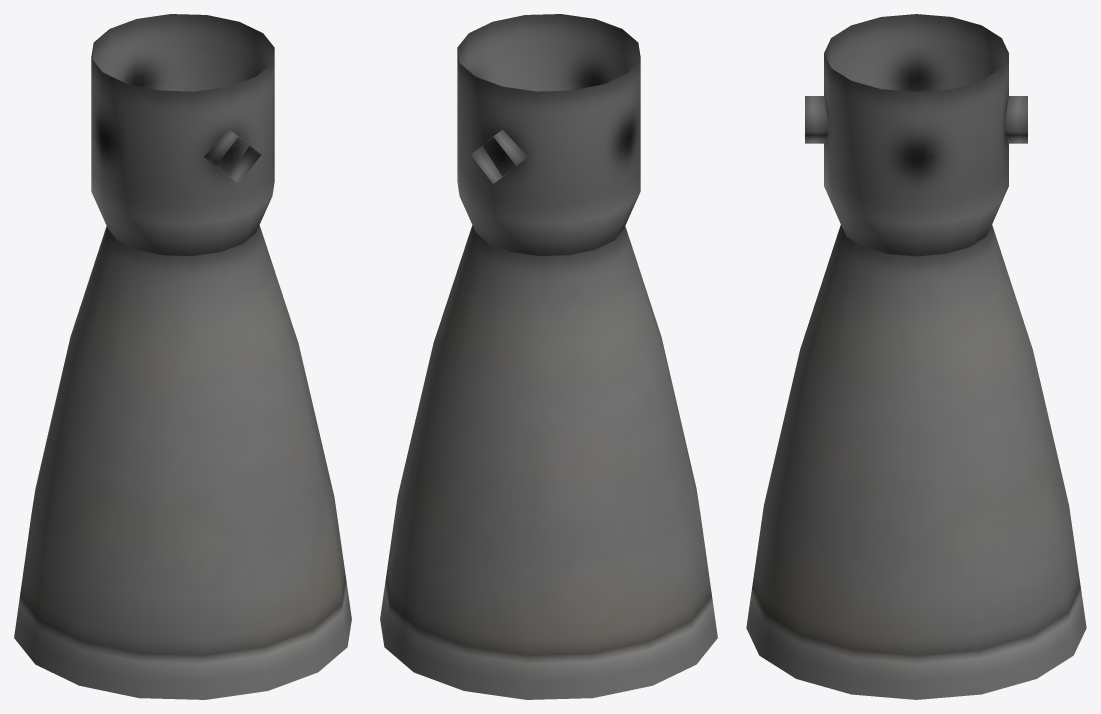
The model's file is TLV_1_Engine_1_Vernier.obj.
3 views of the same model, side by side, from view 1: azimuth 30°, elevation 25°; view 2: azimuth 150°, elevation 25°; view 3: azimuth 270°, elevation 25° (orthographic).
Visible parts, largest first — view 1: TLV_1_Engine_1_Vernier; view 2: TLV_1_Engine_1_Vernier; view 3: TLV_1_Engine_1_Vernier.
Part boxes in pixels (box(x1,y1,x2,y2)): TLV_1_Engine_1_Vernier: box(14, 14, 351, 699); TLV_1_Engine_1_Vernier: box(380, 14, 717, 699); TLV_1_Engine_1_Vernier: box(746, 14, 1086, 699).
Bounding box in the file's own units: 0.2025 × 0.3775 × 0.2025.
